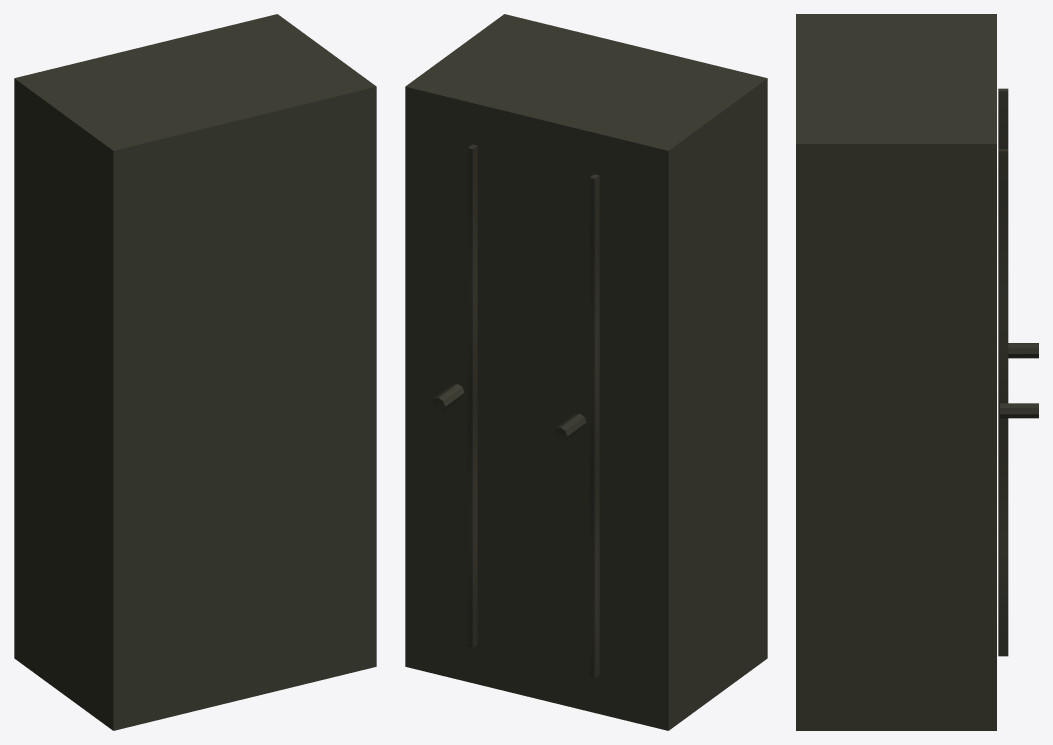
The model's file is closet_storage_a.glb.
3 renders of one model, left to right at view 1: azimuth 30°, elevation 25°; view 2: azimuth 150°, elevation 25°; view 3: azimuth 270°, elevation 25°, orthographic.
Visible parts, largest first — view 1: closet_storage_a; view 2: closet_storage_a; view 3: closet_storage_a.
Part boxes in pixels (left/top/right/bottom): closet_storage_a: left=14, top=14, right=376, bottom=730; closet_storage_a: left=405, top=14, right=767, bottom=730; closet_storage_a: left=796, top=14, right=1038, bottom=730.
Bounding box in the file's own units: 0.95 × 2 × 0.75.
Materials: 1 (1 with a texture image).
